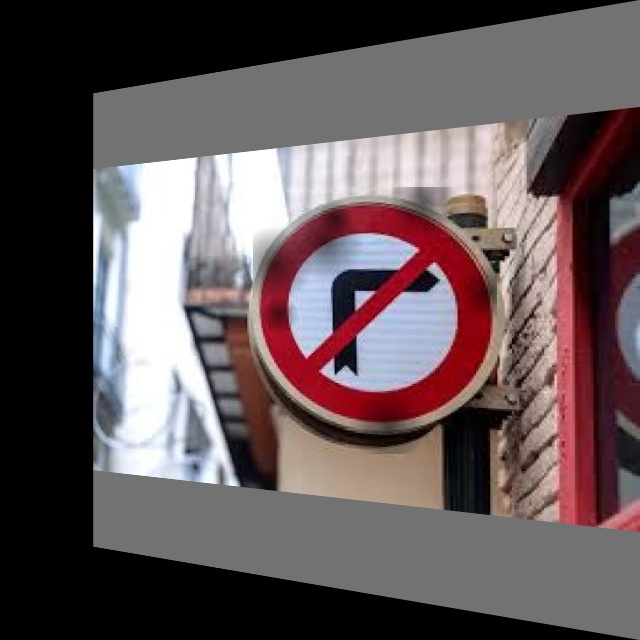Right_Turn_Prohibited: (253, 187, 497, 454)
